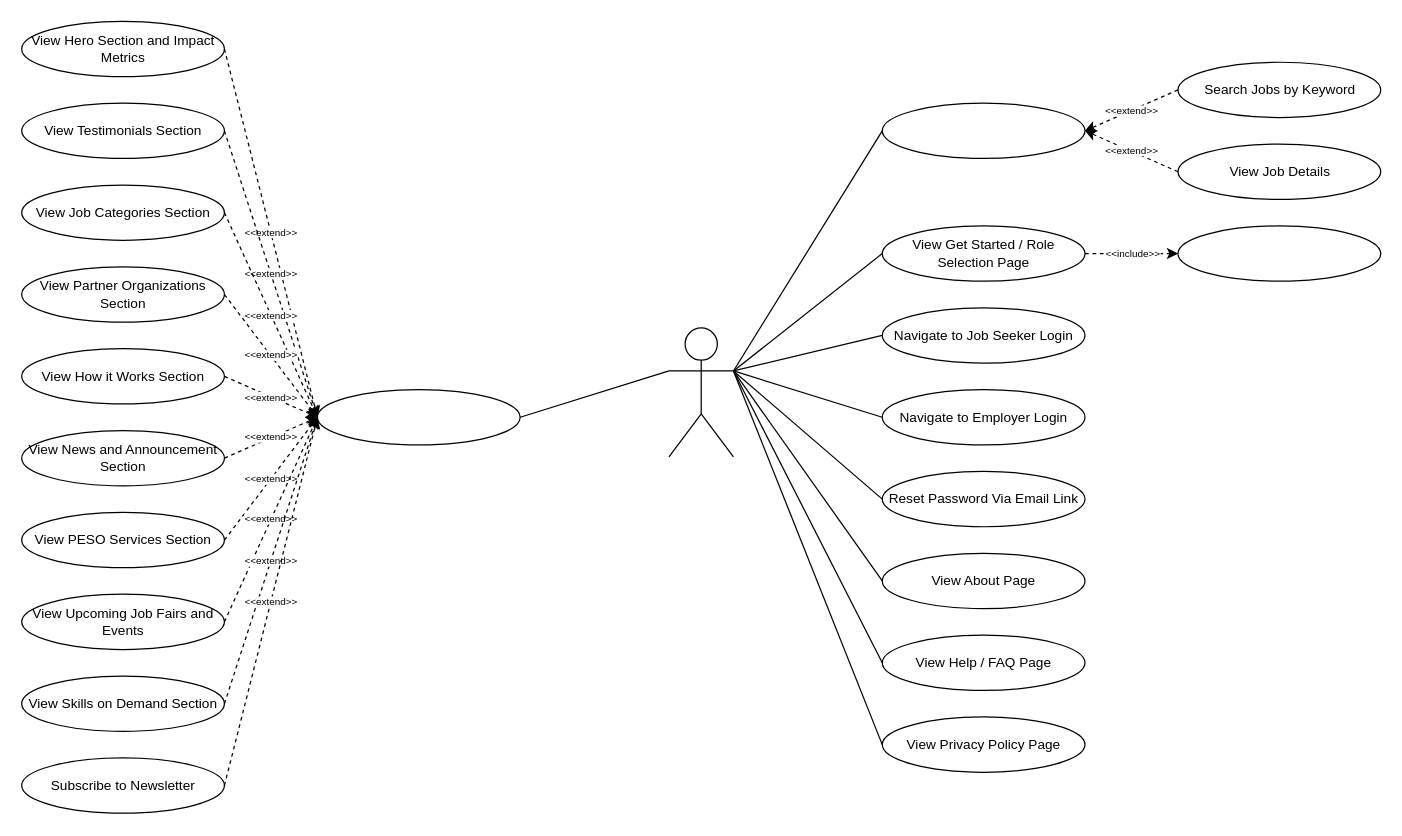
This 1402x836 diagram has some shape labels left out. The box of each missing label's shape, as (x1, y1, x2, y2) in pixels:
Browse Public Job Listing: (881, 102, 1085, 158)
Choose Role: Job Seeker or Employer: (1177, 225, 1381, 281)
Guest (Unauthenticated User): (668, 327, 733, 457)
View Landing Page: (316, 388, 520, 445)
